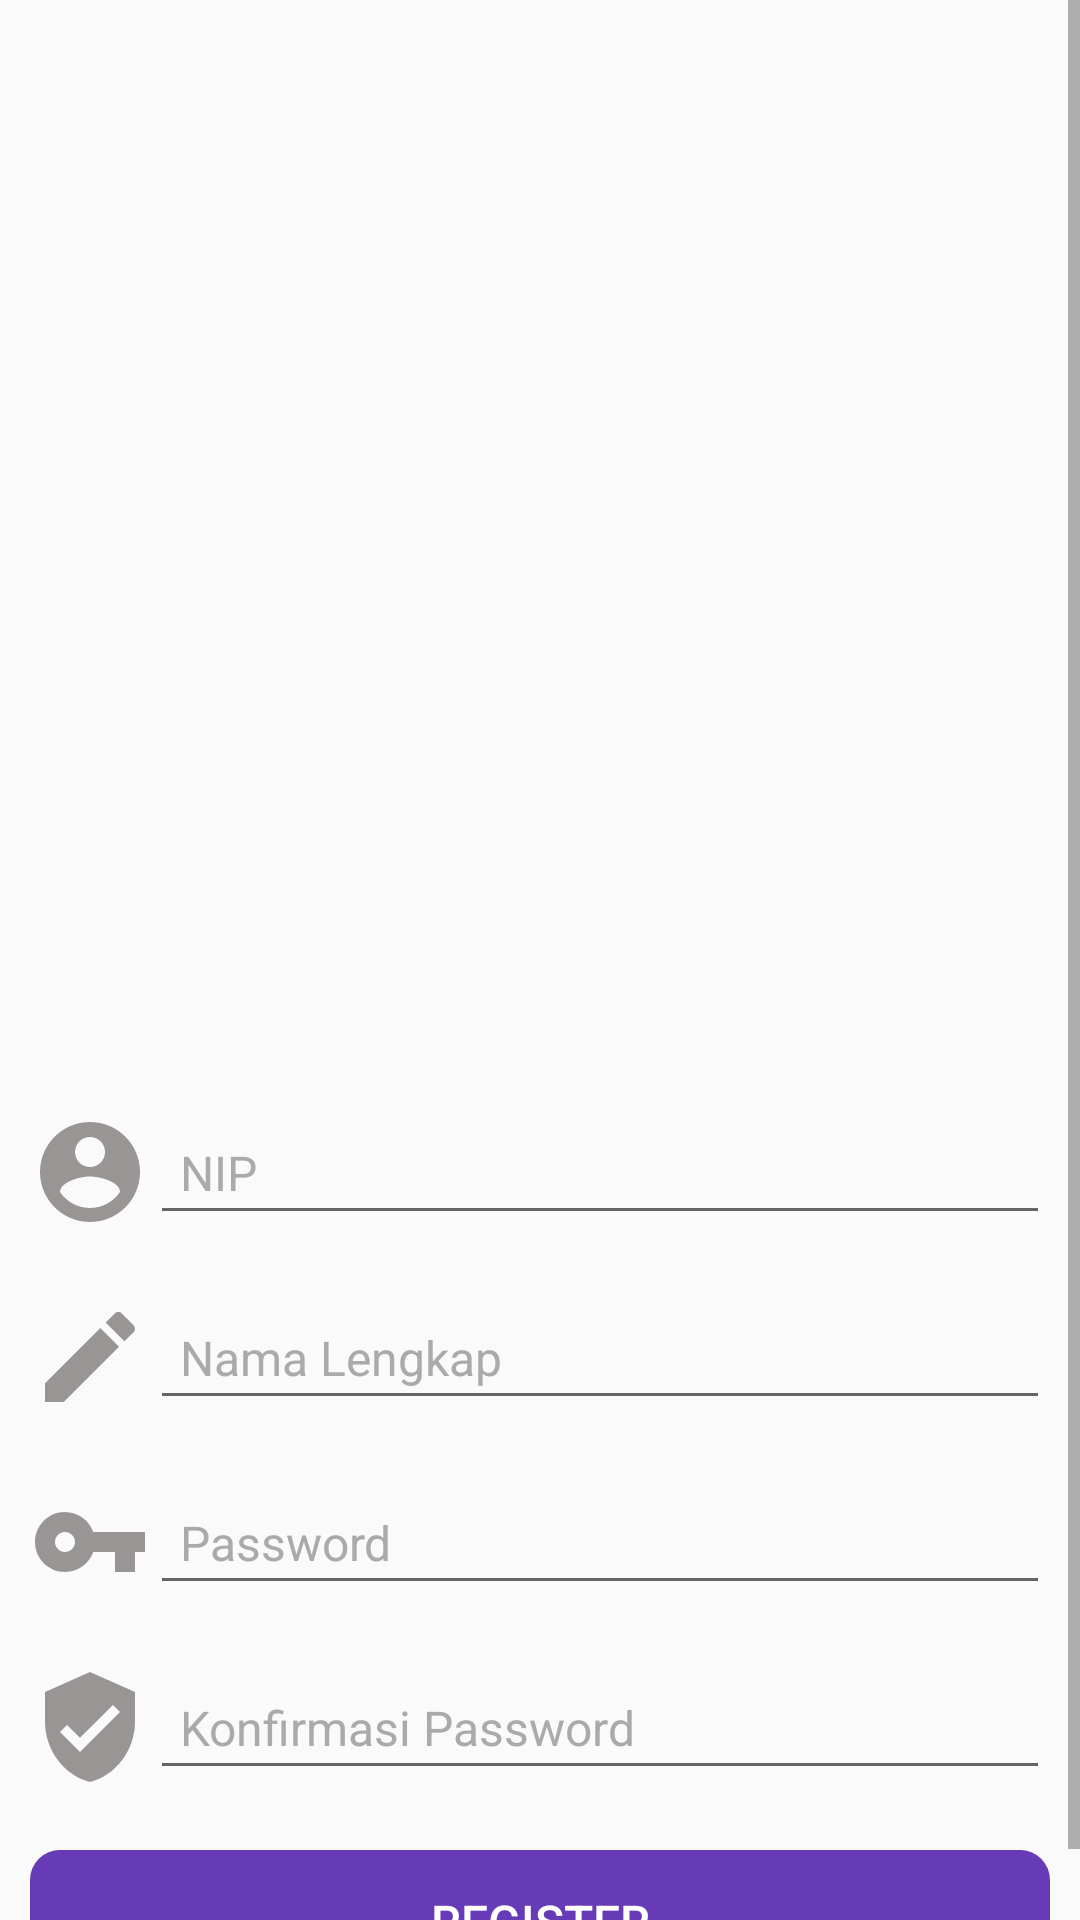

Icons on this 1080px x 1920px Android screen, each with the point to tap as (x,y):
account circle: (90,1172)
mode edit: (90,1357)
verified user: (90,1727)
vpn key: (90,1542)
